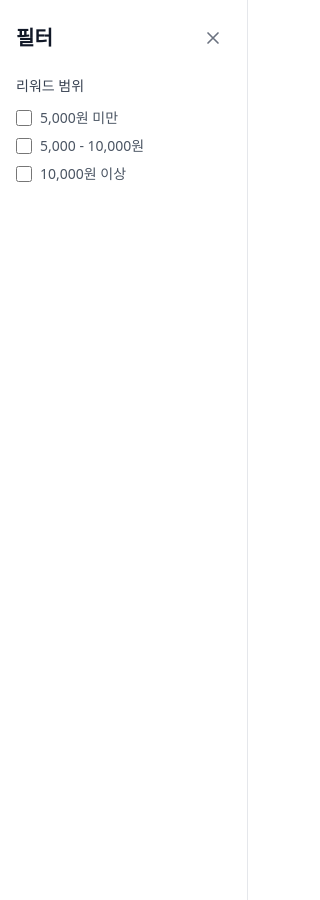
Scenario: Sidebar Component › RED: Collapsible Behavior › should toggle sidebar visibility
Click the button named "사이드바 닫기". click: (213, 38)
box: [203, 28, 223, 48]
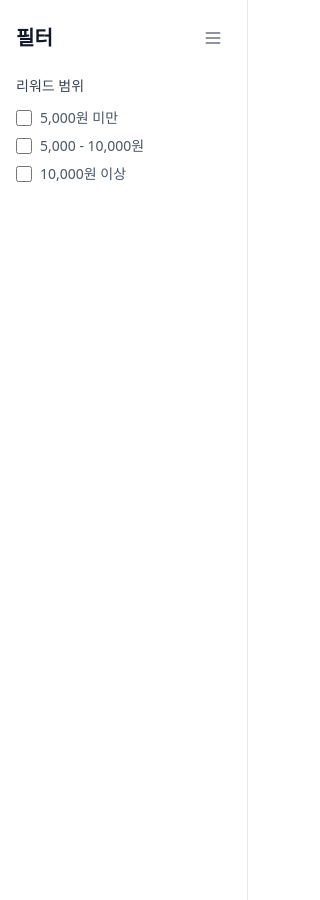
Result: the button named "사이드바 열기" is shown at [203, 28, 223, 48]
